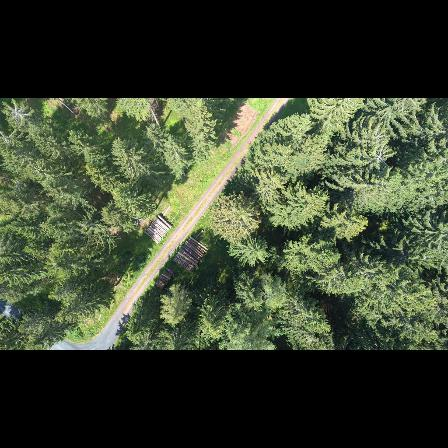Sick: (365, 138, 397, 176), (3, 101, 34, 124)
